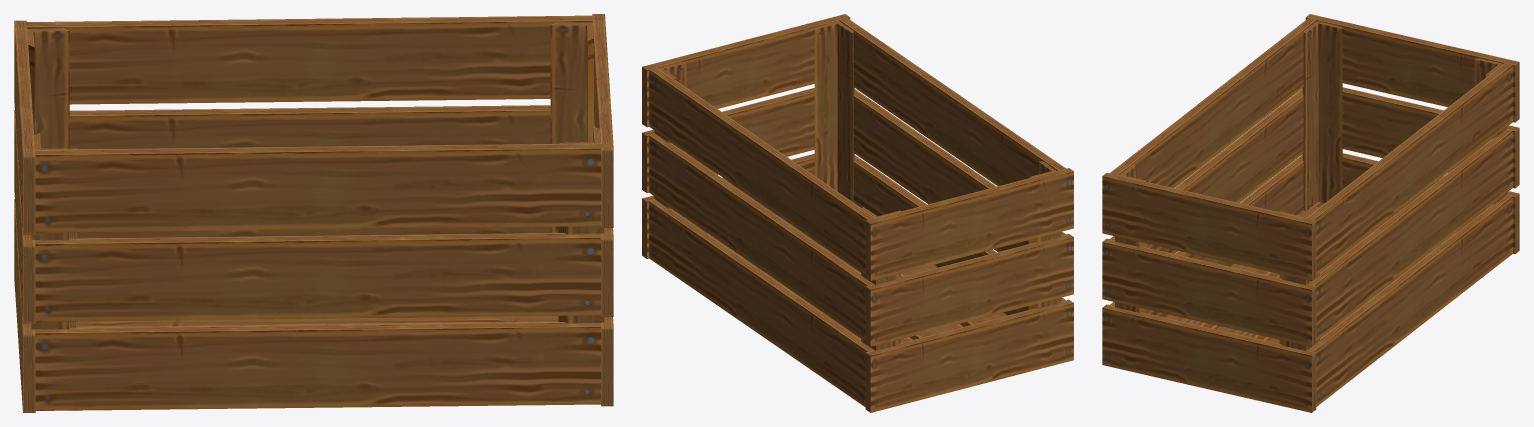
The picture shows the model from 3 angles, left to right: view 1: azimuth 30°, elevation 25°; view 2: azimuth 150°, elevation 25°; view 3: azimuth 270°, elevation 25°; orthographic projection. The views are drawn at different scales.
Visible parts, largest first — view 1: Cube.1869; view 2: Cube.1869; view 3: Cube.1869.
Part boxes in pixels (bbox=[...]): Cube.1869: bbox=[14, 14, 613, 412]; Cube.1869: bbox=[642, 14, 1073, 412]; Cube.1869: bbox=[1102, 14, 1519, 412].
Size of the model in its own units: 227 by 95.26 by 191.
1 material, 1 textured.
